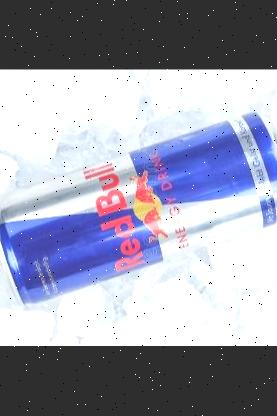Can: (0, 113, 277, 312)
